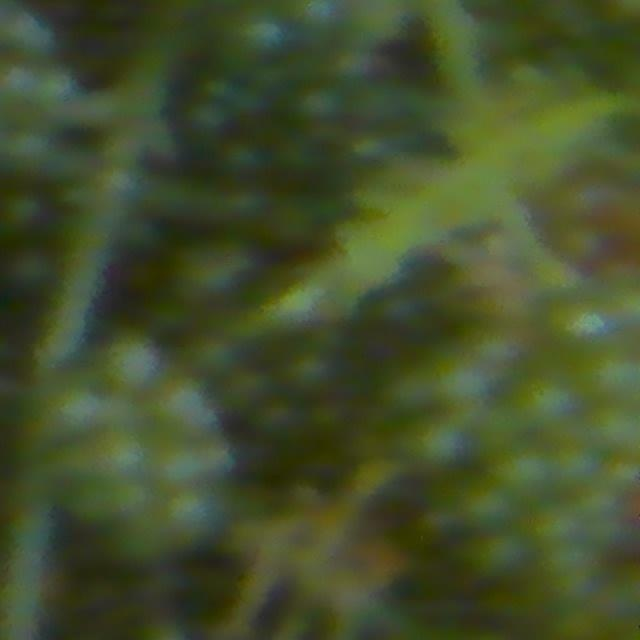SeaGrape: (39, 378, 106, 441), (160, 483, 224, 547), (545, 290, 611, 351), (579, 344, 640, 405), (102, 337, 160, 398), (80, 427, 144, 479), (516, 376, 575, 432), (157, 384, 212, 440), (0, 11, 53, 68), (490, 445, 545, 499), (235, 13, 289, 67), (475, 529, 529, 582), (586, 406, 639, 459), (401, 420, 457, 470), (429, 359, 484, 409), (149, 445, 199, 497), (8, 127, 56, 180), (463, 483, 514, 531), (532, 501, 580, 548), (33, 67, 78, 117), (550, 442, 597, 489), (296, 0, 340, 41), (0, 62, 32, 118)
